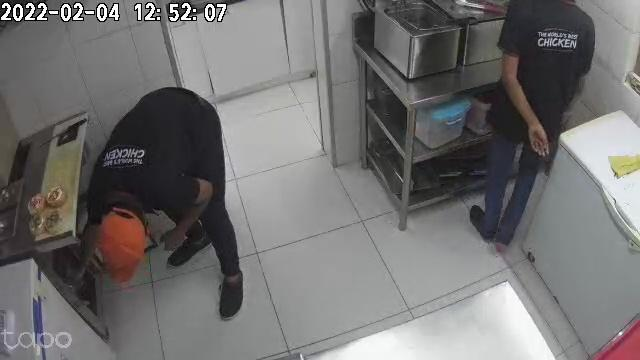no_gloves: (525, 109, 549, 155)
